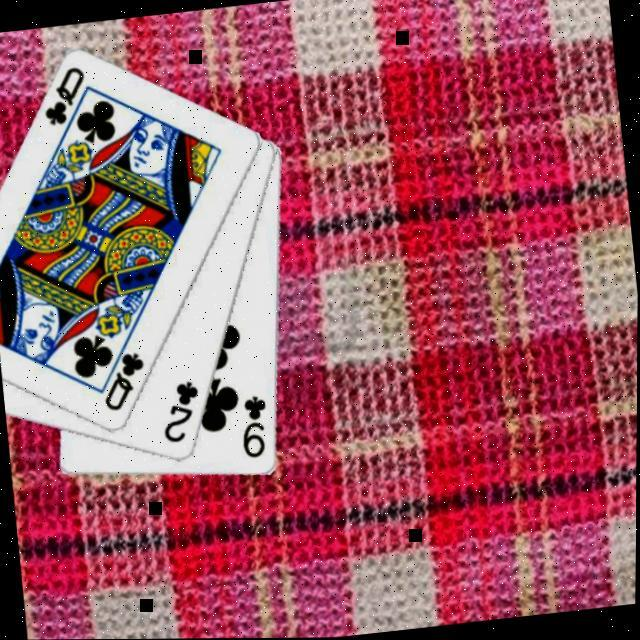2C: (155, 377, 206, 447)
9C: (234, 390, 274, 462)
QC: (96, 347, 150, 415), (36, 62, 91, 128)
